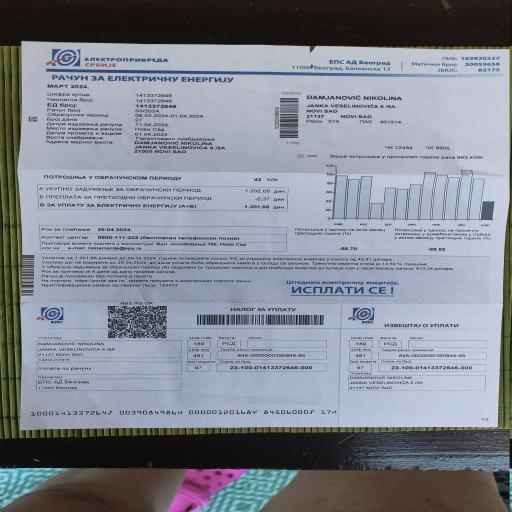racun_za_struju: (30, 170, 290, 234)
